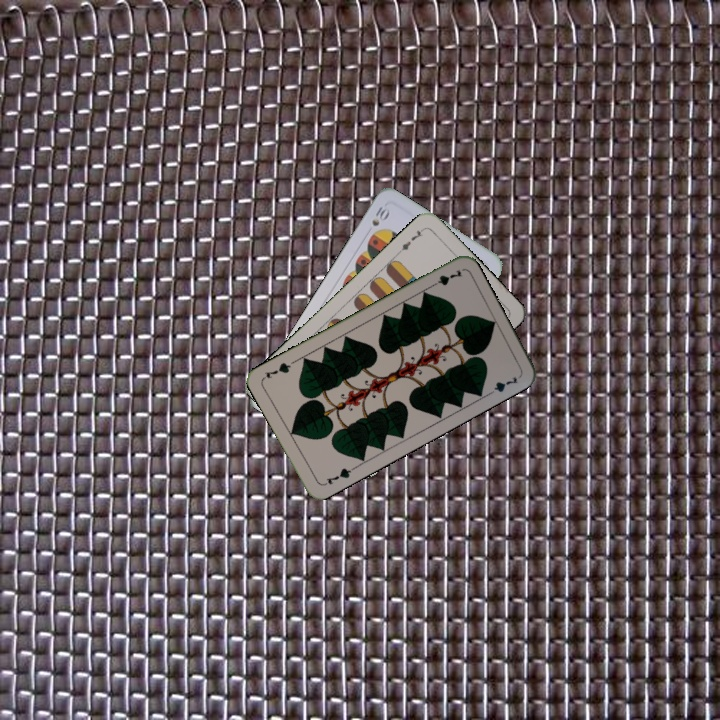E7: (394, 224, 427, 255)
G7: (426, 265, 465, 290), (319, 464, 357, 488)
S10: (368, 202, 392, 229)
